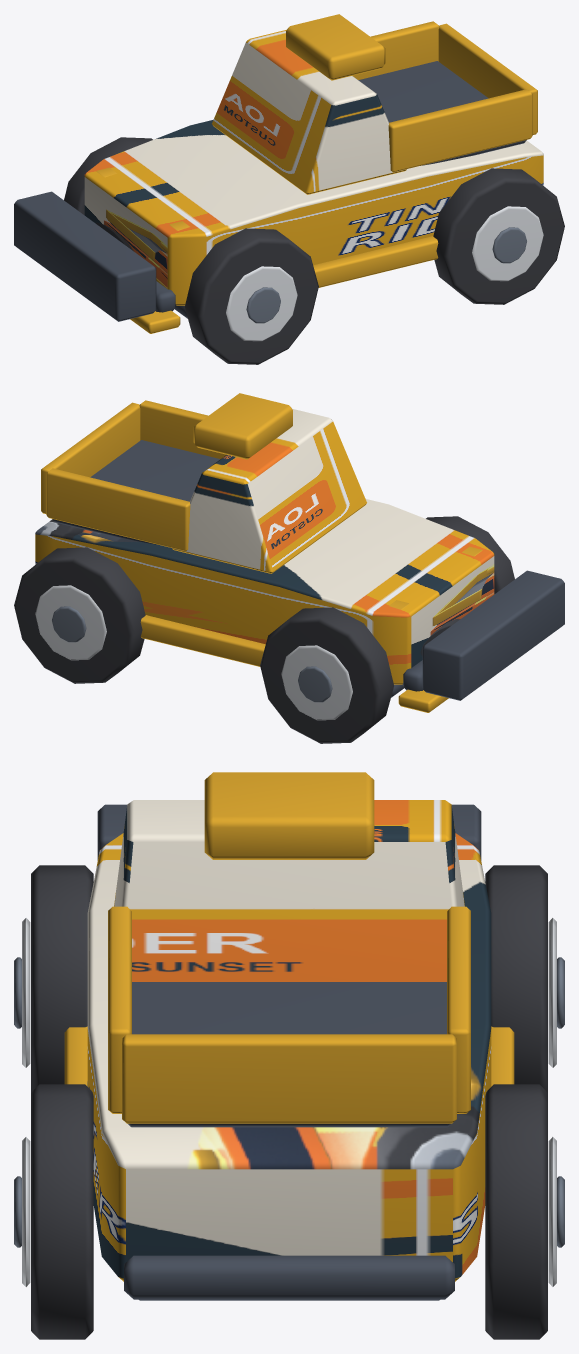
3 views of the same model, one above another, from view 1: azimuth 30°, elevation 25°; view 2: azimuth 150°, elevation 25°; view 3: azimuth 270°, elevation 25° (orthographic). The views are drawn at different scales.
Parts seen in each view (by area): view 1: WY-05_connected_shell, WY-05_cabin, loader bucket, Tire, Tire.002, cargo side, cargo floor, custom equipment, cargo tail, Rim.002, Rim, custom side guard (+6 smaller); view 2: WY-05_connected_shell, WY-05_cabin, loader bucket, Tire.001, Tire.003, cargo side.001, cargo floor, custom equipment, cargo tail, Rim.003, Rim.001, custom side guard.001 (+6 smaller); view 3: WY-05_connected_shell, WY-05_cabin, cargo tail, cargo floor, Tire.002, Tire.003, custom equipment, rear bumper, Tire, Tire.001, cargo side, cargo side.001 (+7 smaller).
Part boxes in pixels (x1,y1,x2,y2): WY-05_connected_shell: [84, 120, 543, 305]; WY-05_cabin: [212, 29, 406, 194]; loader bucket: [14, 191, 156, 321]; Tire: [185, 228, 318, 364]; Tire.002: [433, 168, 564, 304]; cargo side: [388, 89, 532, 172]; cargo floor: [358, 61, 526, 165]; custom equipment: [286, 14, 385, 80]; cargo tail: [438, 23, 537, 134]; Rim.002: [472, 206, 543, 281]; Rim: [226, 266, 297, 341]; custom side guard: [313, 236, 438, 287]; WY-05_connected_shell: [35, 499, 494, 684]; WY-05_cabin: [172, 408, 366, 573]; loader bucket: [422, 570, 564, 700]; Tire.001: [260, 607, 393, 743]; Tire.003: [14, 547, 145, 683]; cargo side.001: [46, 468, 190, 551]; cargo floor: [52, 440, 220, 544]; custom equipment: [193, 393, 292, 459]; cargo tail: [41, 402, 140, 513]; Rim.003: [35, 585, 106, 660]; Rim.001: [281, 645, 352, 720]; custom side guard.001: [140, 615, 265, 666]; WY-05_connected_shell: [87, 833, 491, 1281]; WY-05_cabin: [114, 800, 464, 981]; cargo tail: [122, 1034, 456, 1123]; cargo floor: [127, 982, 451, 1127]; Tire.002: [31, 1084, 93, 1339]; Tire.003: [485, 1084, 547, 1339]; custom equipment: [204, 772, 374, 859]; rear bumper: [124, 1255, 454, 1299]; Tire: [31, 865, 93, 1092]; Tire.001: [485, 865, 547, 1092]; cargo side: [108, 906, 131, 1113]; cargo side.001: [447, 906, 470, 1113].
Bounding box in the file's own units: 389 × 203 × 228.
